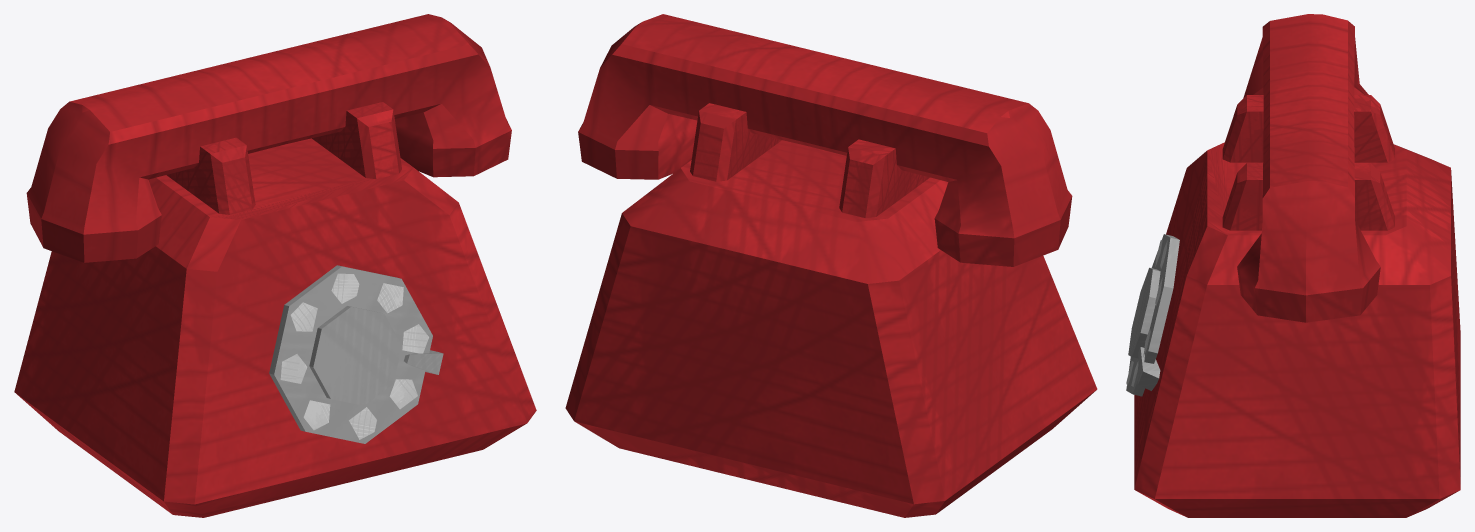
The model's file is low_poly_red_rotary_phone.glb.
3 renders of one model, left to right at view 1: azimuth 30°, elevation 25°; view 2: azimuth 150°, elevation 25°; view 3: azimuth 270°, elevation 25°, orthographic. The views are drawn at different scales.
Parts seen in each view (by area): view 1: Cube_0, Cube.002_4, Circle_1, Cube.001_3, Circle.002_5, Circle.001_2; view 2: Cube_0, Cube.002_4, Cube.001_3; view 3: Cube_0, Cube.002_4, Cube.001_3, Circle_1, Circle.001_2, Circle.002_5.
Part boxes in pixels (left/top/right/bottom): Cube_0: left=14, top=138, right=536, bottom=517; Cube.002_4: left=26, top=14, right=511, bottom=262; Circle_1: left=269, top=265, right=432, bottom=443; Cube.001_3: left=166, top=102, right=401, bottom=214; Circle.002_5: left=280, top=273, right=428, bottom=439; Circle.001_2: left=404, top=350, right=443, bottom=374; Cube_0: left=565, top=140, right=1097, bottom=517; Cube.002_4: left=578, top=14, right=1072, bottom=266; Cube.001_3: left=690, top=103, right=929, bottom=217; Cube_0: left=1134, top=142, right=1460, bottom=517; Cube.002_4: left=1237, top=14, right=1380, bottom=322; Cube.001_3: left=1222, top=95, right=1394, bottom=230; Circle_1: left=1126, top=234, right=1179, bottom=396; Circle.001_2: left=1138, top=347, right=1160, bottom=390; Circle.002_5: left=1126, top=239, right=1167, bottom=386.
Bounding box in the file's own units: 3.28 × 2.48 × 2.17.
Materials: 1 (1 with a texture image).
